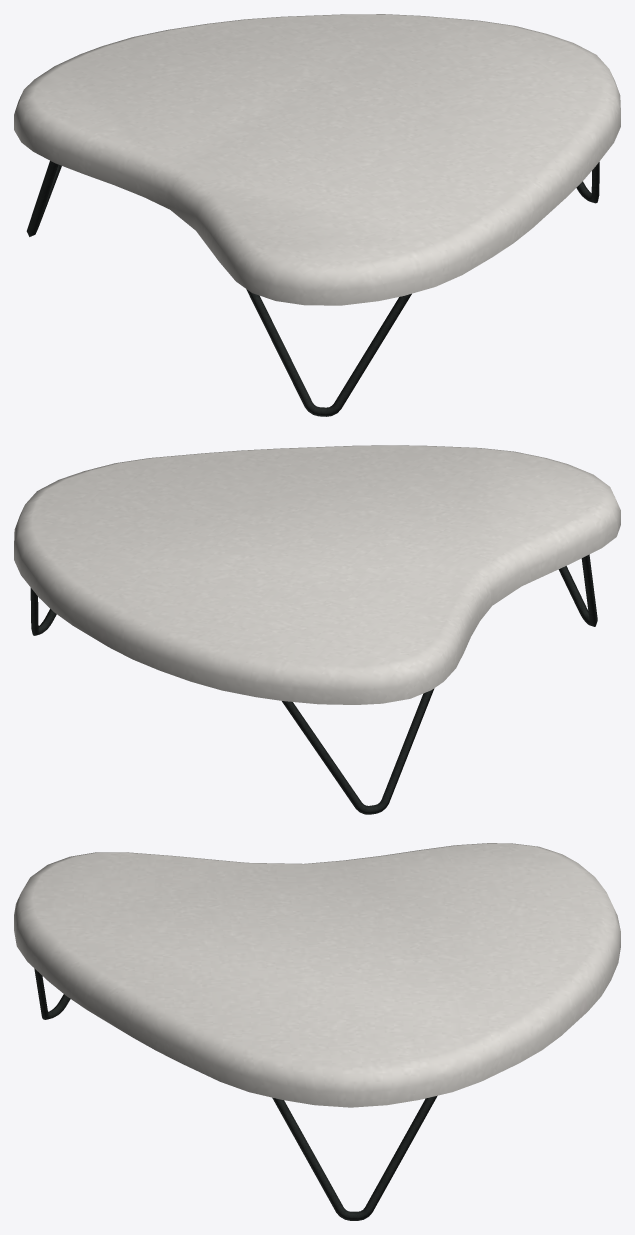
Rendered from table_3_3.glb.
The picture shows the model from 3 angles, top to bottom: view 1: azimuth 30°, elevation 25°; view 2: azimuth 150°, elevation 25°; view 3: azimuth 270°, elevation 25°; orthographic projection. The views are drawn at different scales.
Parts seen in each view (by area): view 1: table_3_3; view 2: table_3_3; view 3: table_3_3.
Part boxes in pixels (bbox=[...]): table_3_3: bbox=[14, 14, 620, 416]; table_3_3: bbox=[14, 445, 620, 814]; table_3_3: bbox=[14, 843, 620, 1220].
Size of what is drawn, in the model's own units: 1.85 by 0.5372 by 1.98.
2 materials, 2 textured.
